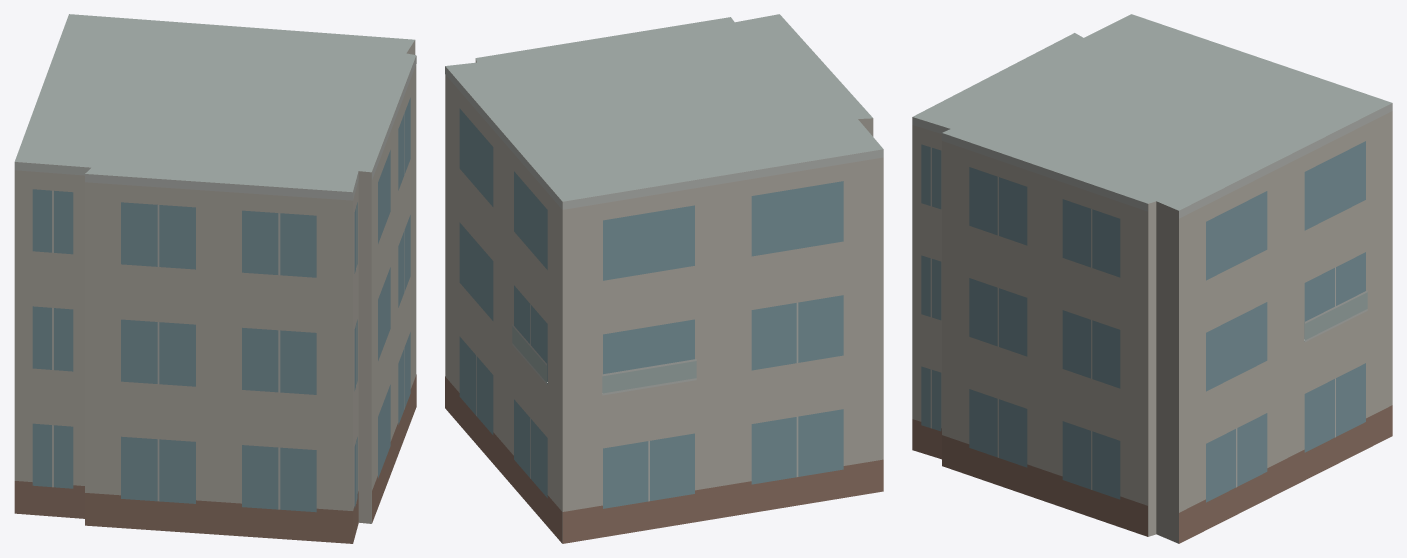
The model's file is survey-upis-33044895.glb.
The picture shows the model from 3 angles, left to right: view 1: azimuth 30°, elevation 25°; view 2: azimuth 150°, elevation 25°; view 3: azimuth 270°, elevation 25°; orthographic projection. The views are drawn at different scales.
Visible parts, largest first — view 1: survey-upis-33044895.tmp; view 2: survey-upis-33044895.tmp; view 3: survey-upis-33044895.tmp.
Boxes of the visible parts, bbox=[...] form: survey-upis-33044895.tmp: bbox=[14, 14, 416, 543]; survey-upis-33044895.tmp: bbox=[445, 14, 883, 543]; survey-upis-33044895.tmp: bbox=[912, 14, 1392, 543].
Size of the model in its own units: 12.93 by 10.2 by 13.34.
